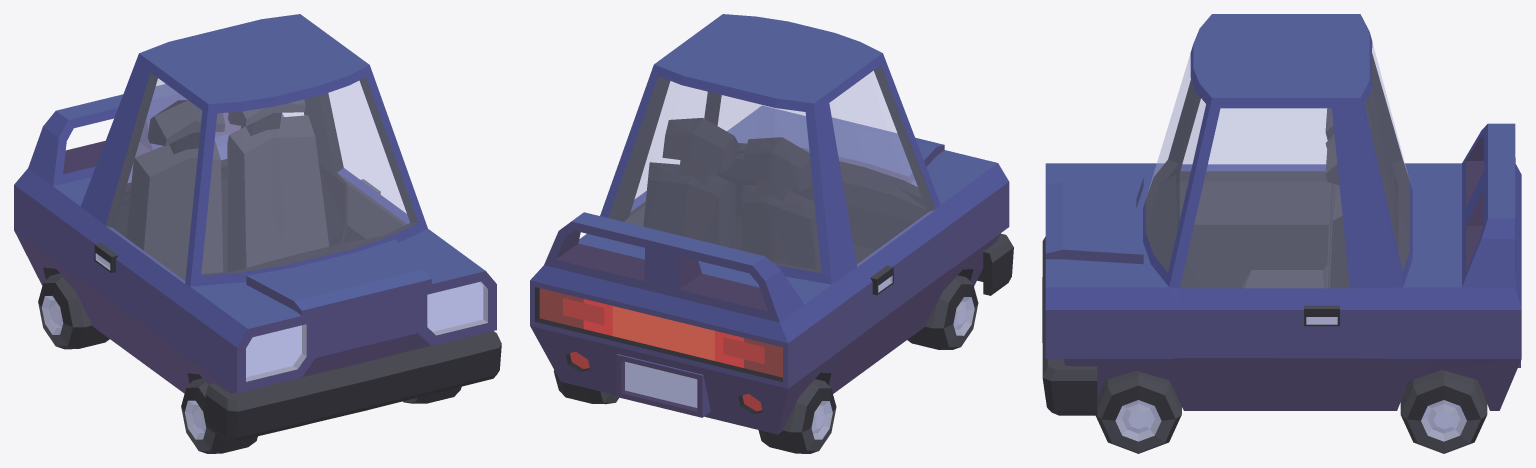
The model's file is purple-compact-cruiser.glb.
The picture shows the model from 3 angles, left to right: view 1: azimuth 30°, elevation 25°; view 2: azimuth 150°, elevation 25°; view 3: azimuth 270°, elevation 25°; orthographic projection. The views are drawn at different scales.
Parts seen in each view (by area): view 1: Car01_1, Car01_1_DR, Car01_1_AdF, Car01_1_DL, Car01_1_AdB, Car01_1_WhBR, Car01_1_WhFR; view 2: Car01_1, Car01_1_DR, Car01_1_AdB, Car01_1_WhBR, Car01_1_WhFR, Car01_1_DL, Car01_1_AdF, Car01_1_WhBL; view 3: Car01_1, Car01_1_DL, Car01_1_DR, Car01_1_AdB, Car01_1_WhBL, Car01_1_WhFL, Car01_1_AdF.
Boxes of the visible parts, x1,y1,x2,y2 form: Car01_1: (14,14,496,393); Car01_1_DR: (94,73,201,385); Car01_1_AdF: (205,331,501,441); Car01_1_DL: (329,81,409,243); Car01_1_AdB: (28,84,283,186); Car01_1_WhBR: (38,273,109,349); Car01_1_WhFR: (181,378,257,453); Car01_1: (530,14,1009,434); Car01_1_DR: (829,65,947,373); Car01_1_AdB: (544,212,804,322); Car01_1_WhBR: (758,379,836,453); Car01_1_WhFR: (907,275,978,349); Car01_1_DL: (624,81,706,226); Car01_1_AdF: (977,233,1013,295); Car01_1_WhBL: (553,370,618,404); Car01_1: (1045,14,1521,410); Car01_1_DL: (1179,108,1349,403); Car01_1_DR: (1179,99,1330,287); Car01_1_AdB: (1462,123,1515,287); Car01_1_WhBL: (1400,369,1487,453); Car01_1_WhFL: (1096,370,1181,453); Car01_1_AdF: (1042,236,1097,415).
Size of the model in its own units: 2.56 by 2.82 by 3.63.
3 materials, 3 textured.
